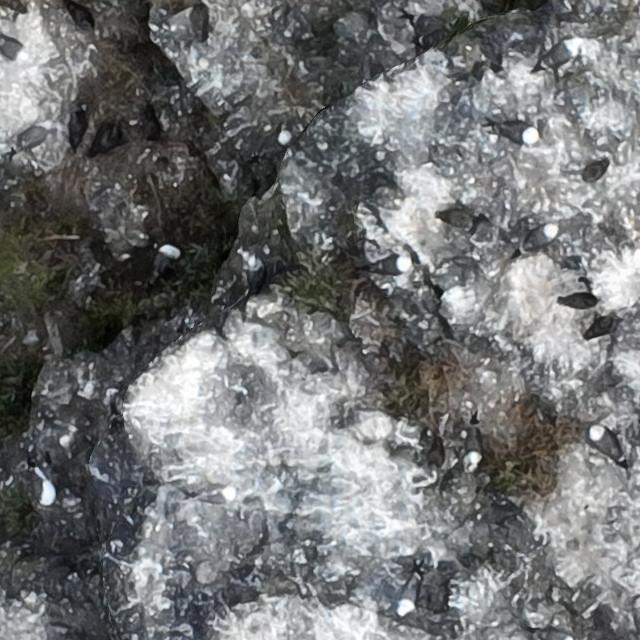umineko: (542, 37, 581, 68), (256, 131, 294, 159), (491, 120, 536, 142), (34, 469, 57, 509), (526, 225, 558, 249), (397, 578, 417, 614), (590, 429, 617, 455), (246, 256, 265, 290), (0, 38, 26, 62), (371, 256, 406, 273), (464, 430, 478, 466), (156, 244, 179, 264)
